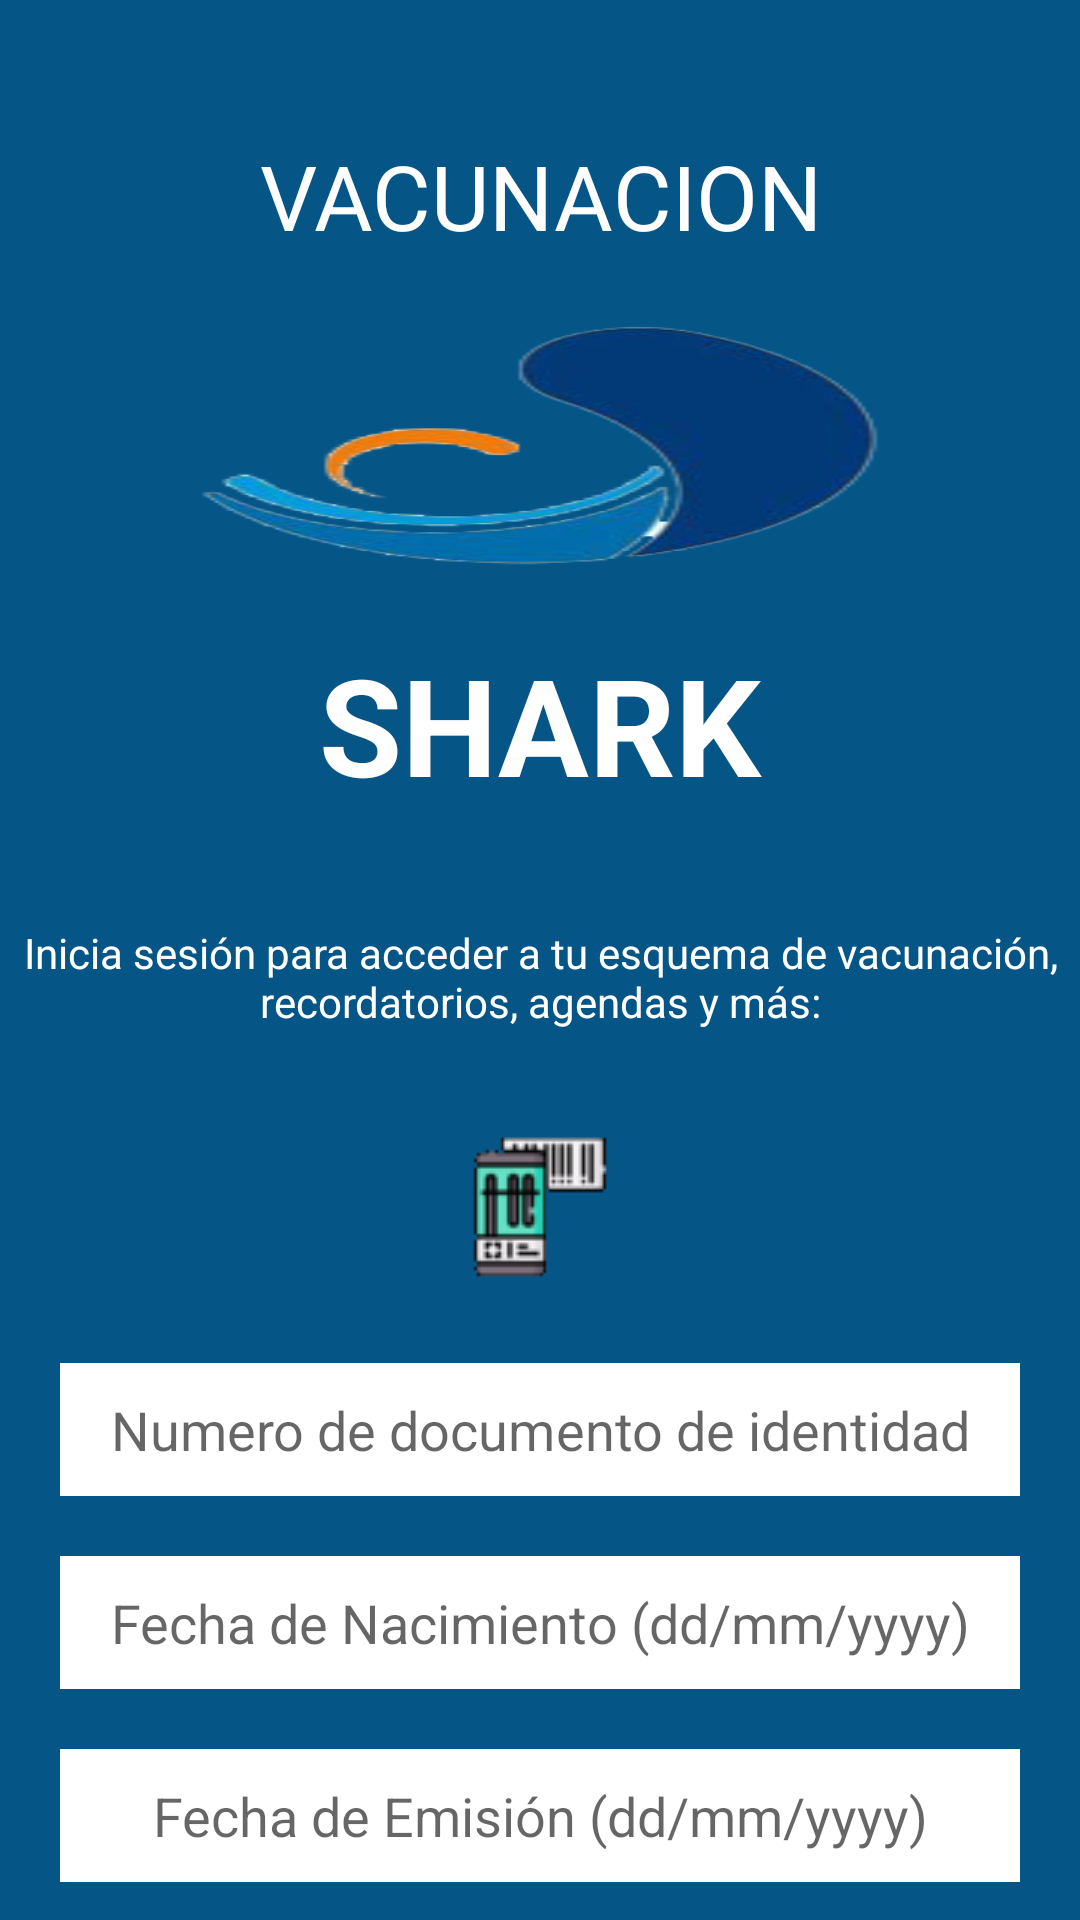

Icon click points for this 1080x1920 phone screenshot, format [x,y]:
scan: [540,1207]
